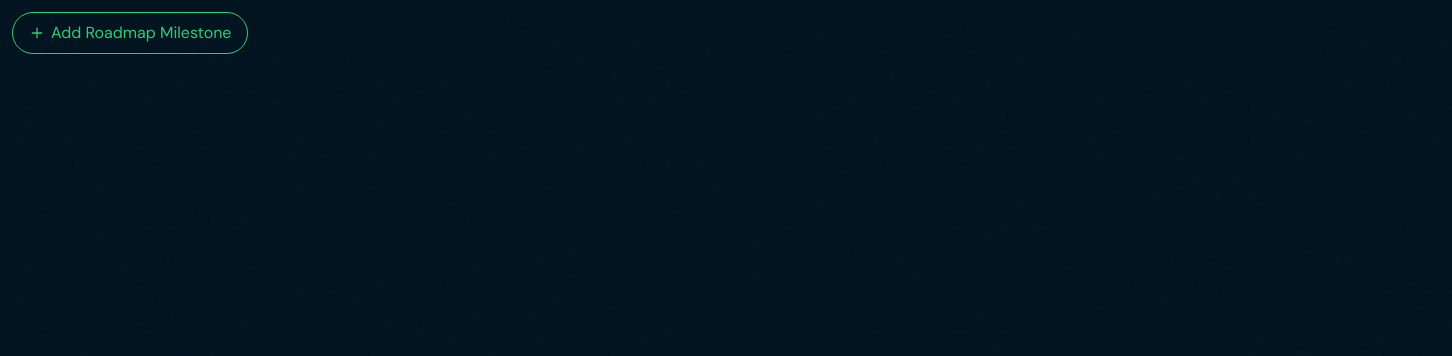
Test: AddRoadmapMilestoneForm › disables the save button until a title is entered
What coordinates should you click on to do the following:
click the button "Add Roadmap Milestone"
I would click on:
 (130, 33)
Its box is [12,12,248,54].
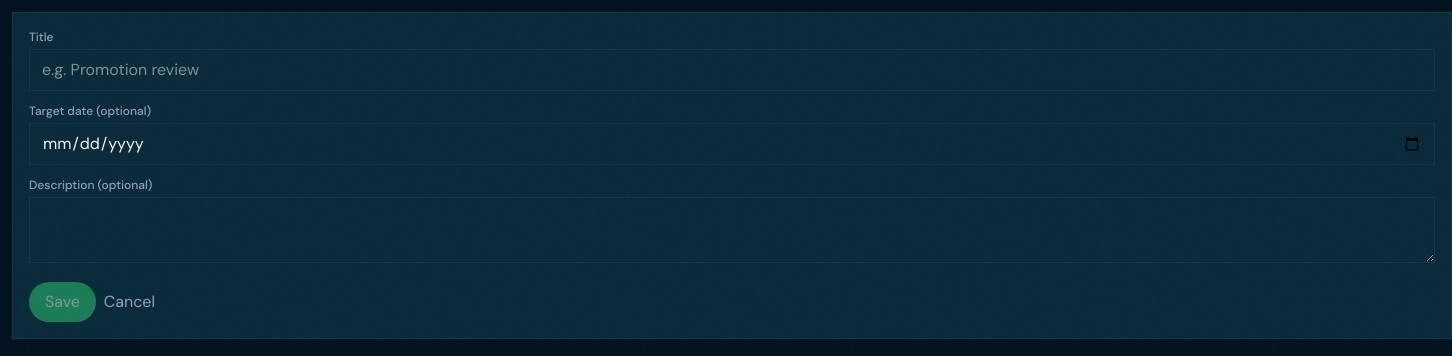
Result: the button "Save" is disabled at [29,282,96,322]
